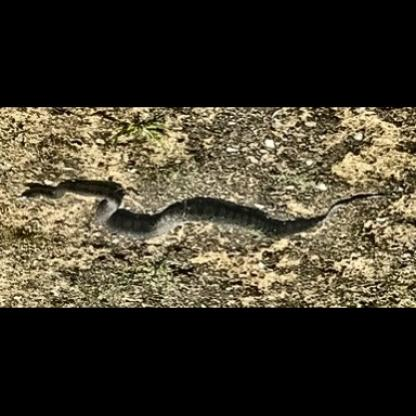Snake: (6, 170, 416, 251)
